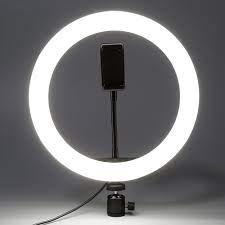Lamp: (26, 5, 202, 218)
